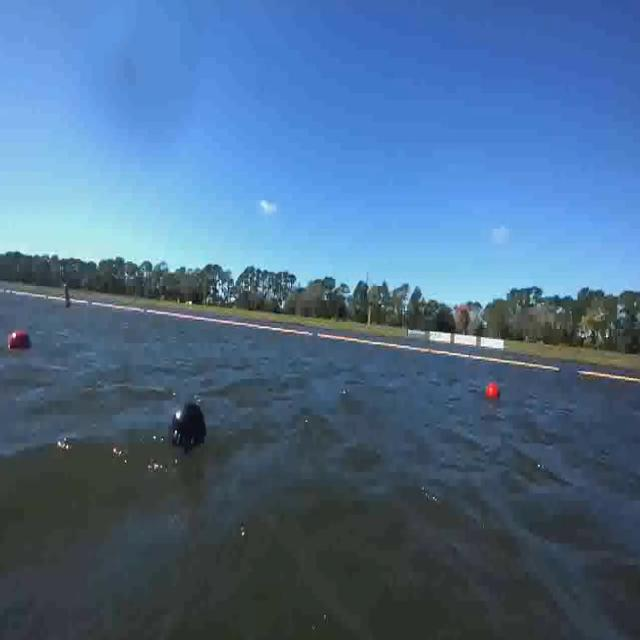black-buoy: (167, 398, 208, 450)
red-buoy: (8, 324, 32, 352), (486, 383, 501, 400)
